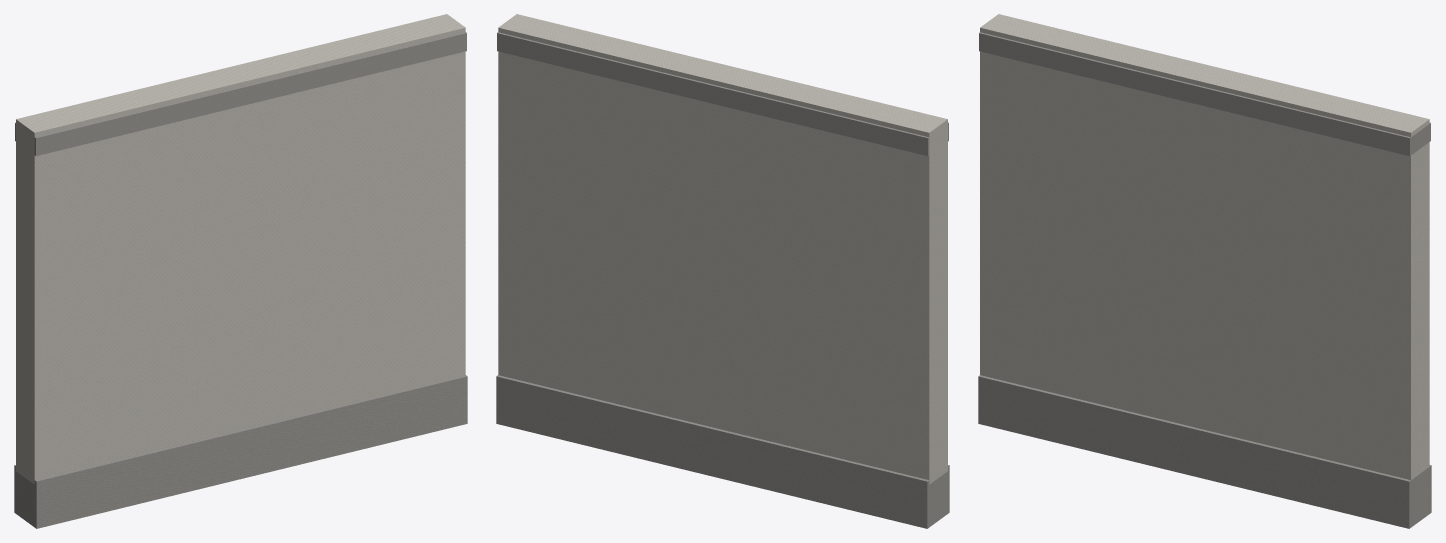
File: PlasterWallBay_CC0.glb
3 views of the same model, side by side, from view 1: azimuth 30°, elevation 25°; view 2: azimuth 150°, elevation 25°; view 3: azimuth 330°, elevation 25° (orthographic).
Parts seen in each view (by area): view 1: wall-plaster-bay; view 2: wall-plaster-bay; view 3: wall-plaster-bay.
Part boxes in pixels (x1,y1,x2,y2): wall-plaster-bay: [14, 14, 467, 528]; wall-plaster-bay: [496, 14, 949, 528]; wall-plaster-bay: [978, 14, 1431, 528].
Bounding box in the file's own units: 4 × 3.5 × 0.3599.
2 materials, 2 textured.
